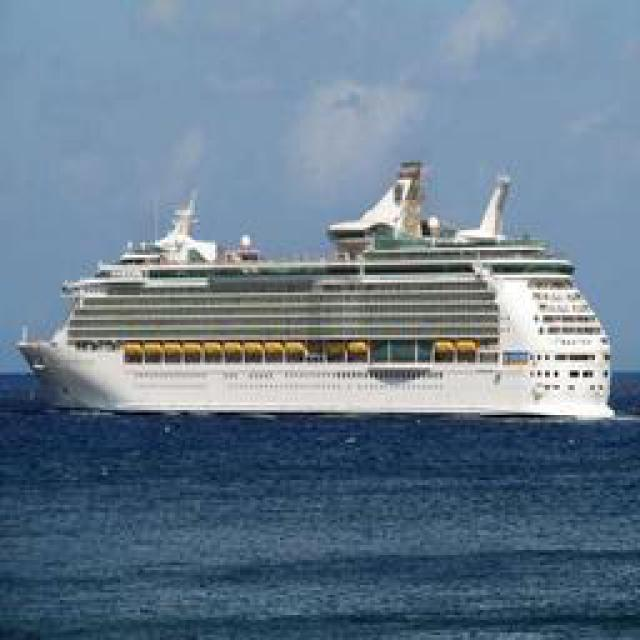Ship: (24, 148, 609, 416)
